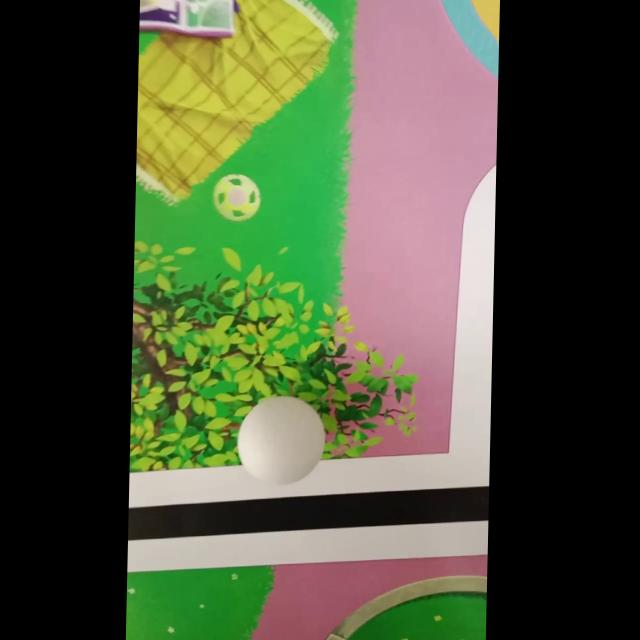white ball: (235, 395, 326, 485)
